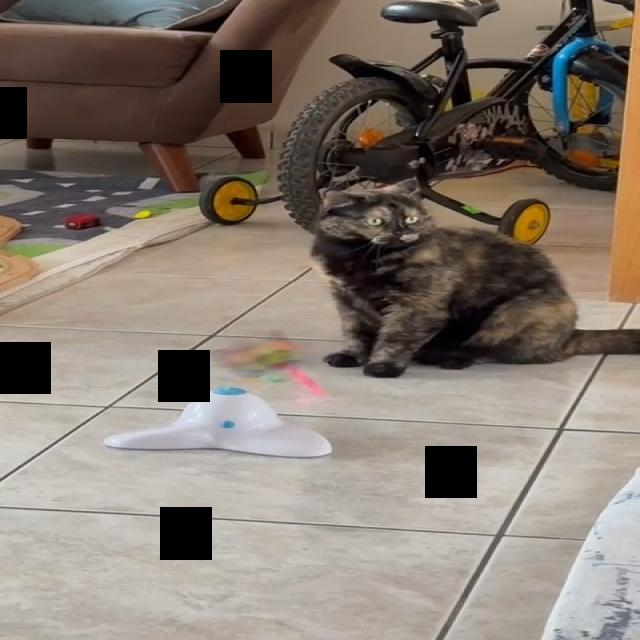authorized: (308, 176, 639, 378)
